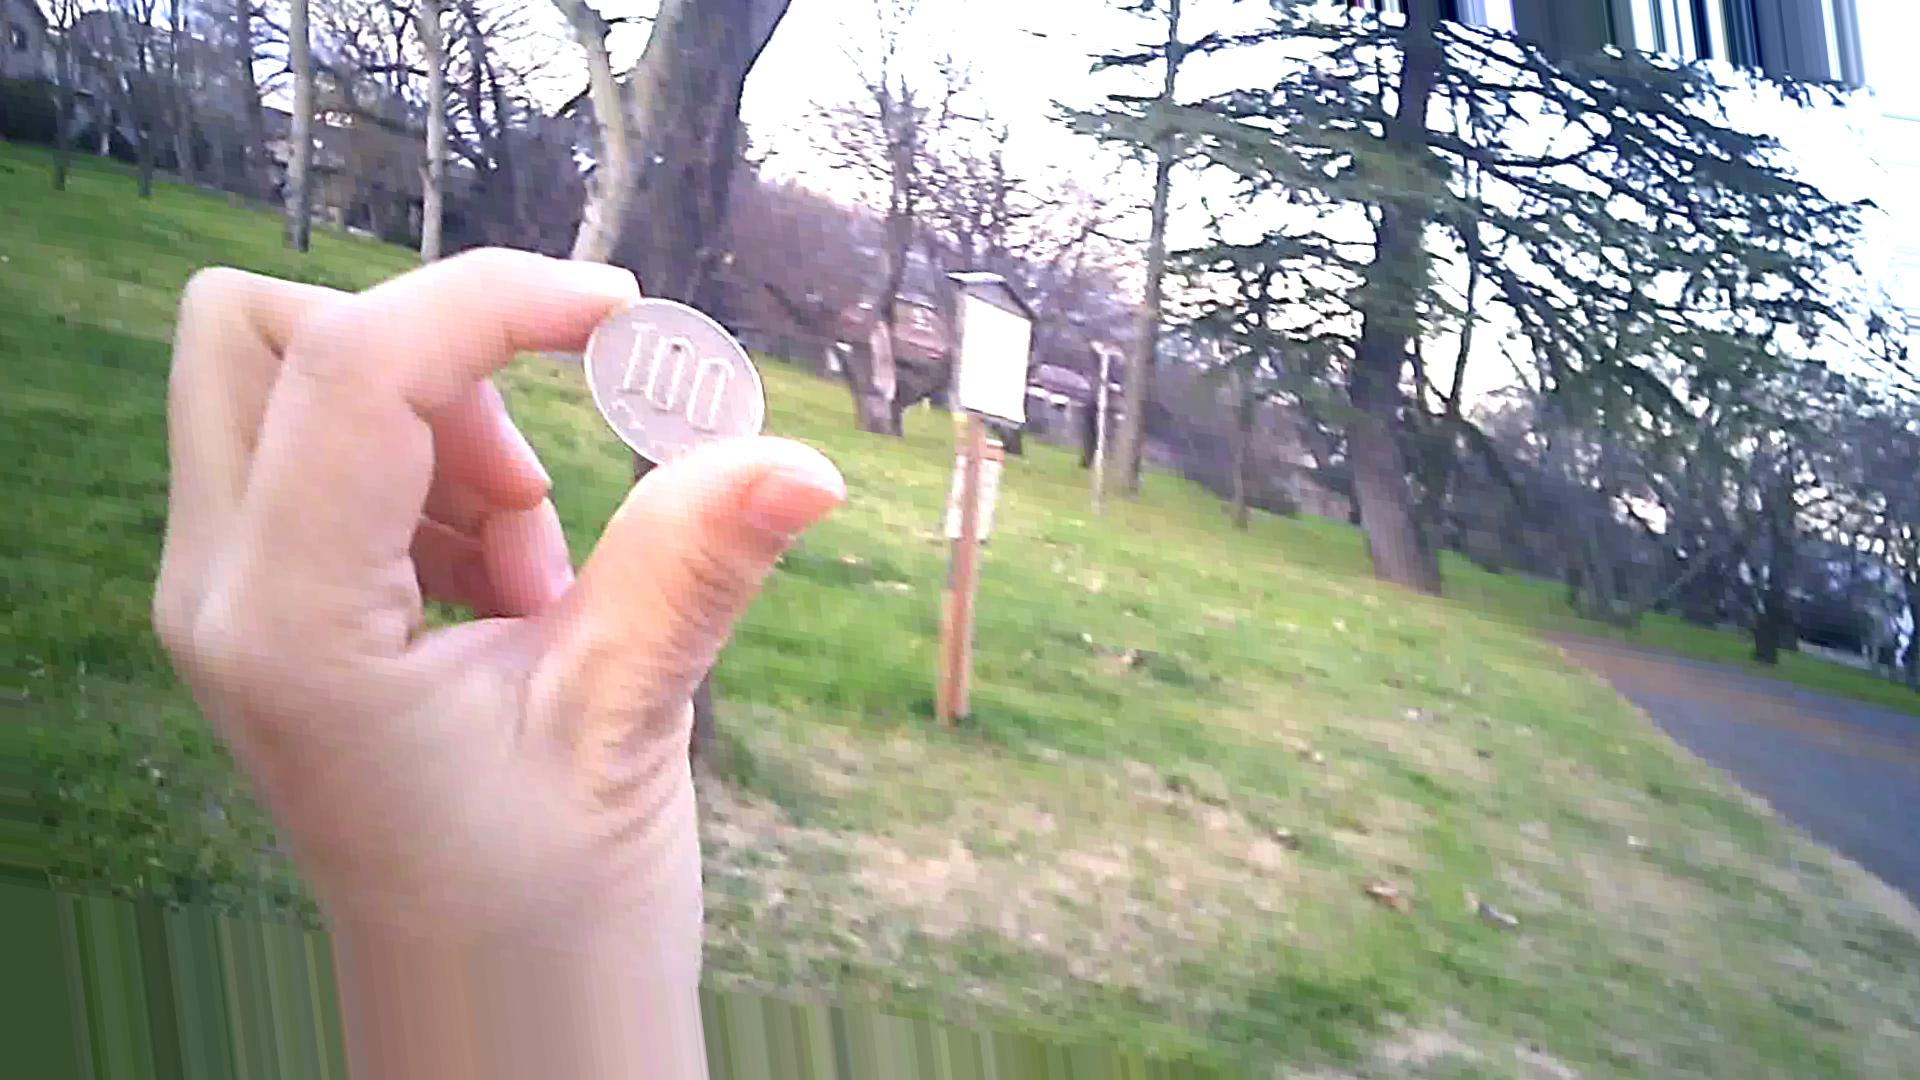100 Yen: (559, 291, 774, 487)
